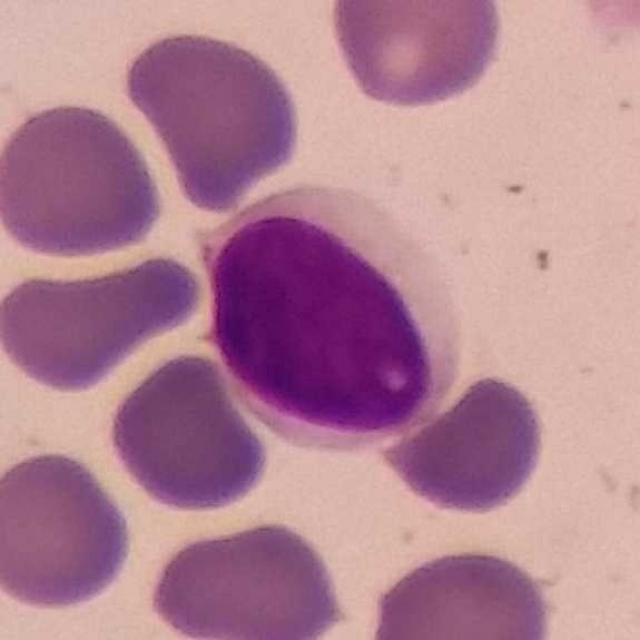Lymphocyte: (196, 191, 481, 452)
Platelets: (579, 0, 640, 50)
RBC: (120, 23, 308, 212), (0, 248, 211, 396), (102, 346, 274, 519), (0, 95, 169, 265), (375, 368, 553, 519), (144, 515, 350, 639), (0, 444, 137, 615), (324, 0, 509, 114), (360, 541, 560, 640)
